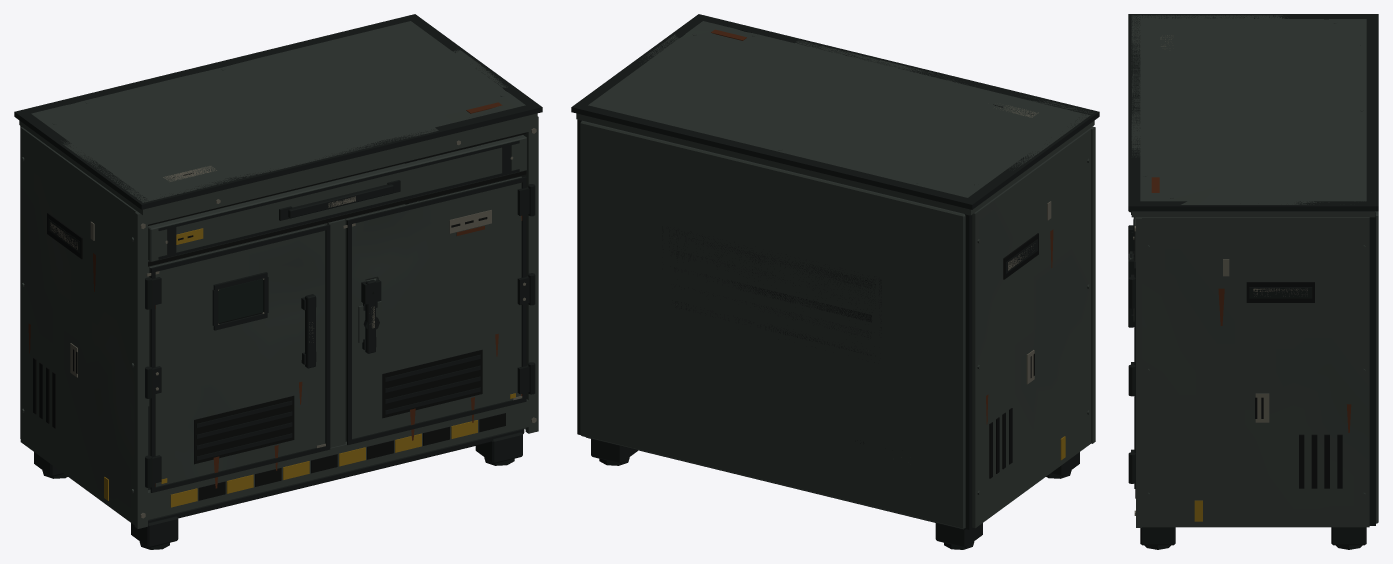
Rendered from radio_cabinet.glb.
3 renders of one model, left to right at view 1: azimuth 30°, elevation 25°; view 2: azimuth 150°, elevation 25°; view 3: azimuth 270°, elevation 25°, orthographic.
Parts seen in each view (by area): view 1: CabinetBody; view 2: CabinetBody; view 3: CabinetBody.
Boxes of the visible parts, x1,y1,x2,y2 form: CabinetBody: (14, 14, 542, 549); CabinetBody: (571, 14, 1099, 549); CabinetBody: (1128, 14, 1378, 549).
Size of the model in its own units: 1 by 0.85 by 0.55.
